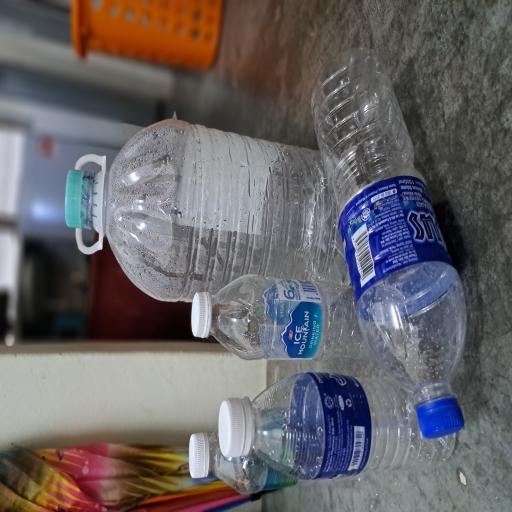plastic bottle: (161, 136, 294, 462), (95, 417, 350, 512), (115, 283, 178, 512), (25, 340, 100, 512), (16, 284, 77, 476)
plastic bottle cap: (42, 292, 88, 341), (212, 83, 259, 126), (25, 252, 62, 282), (130, 254, 166, 284)
